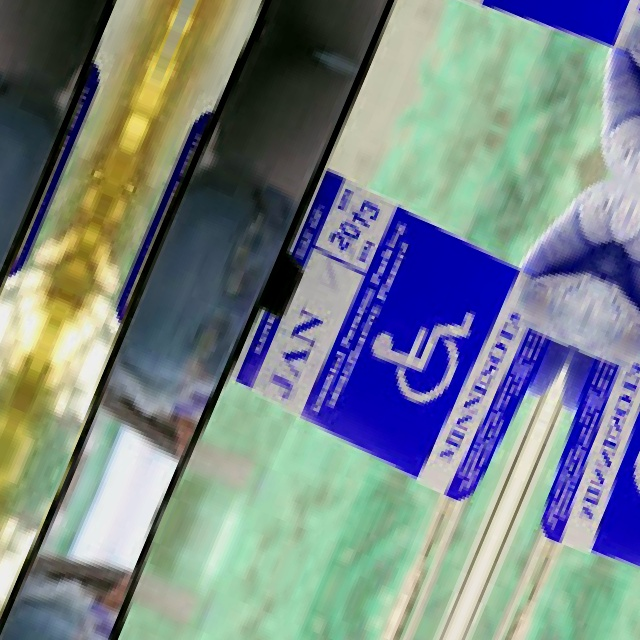ISA: (345, 275, 485, 425), (614, 388, 640, 537)
